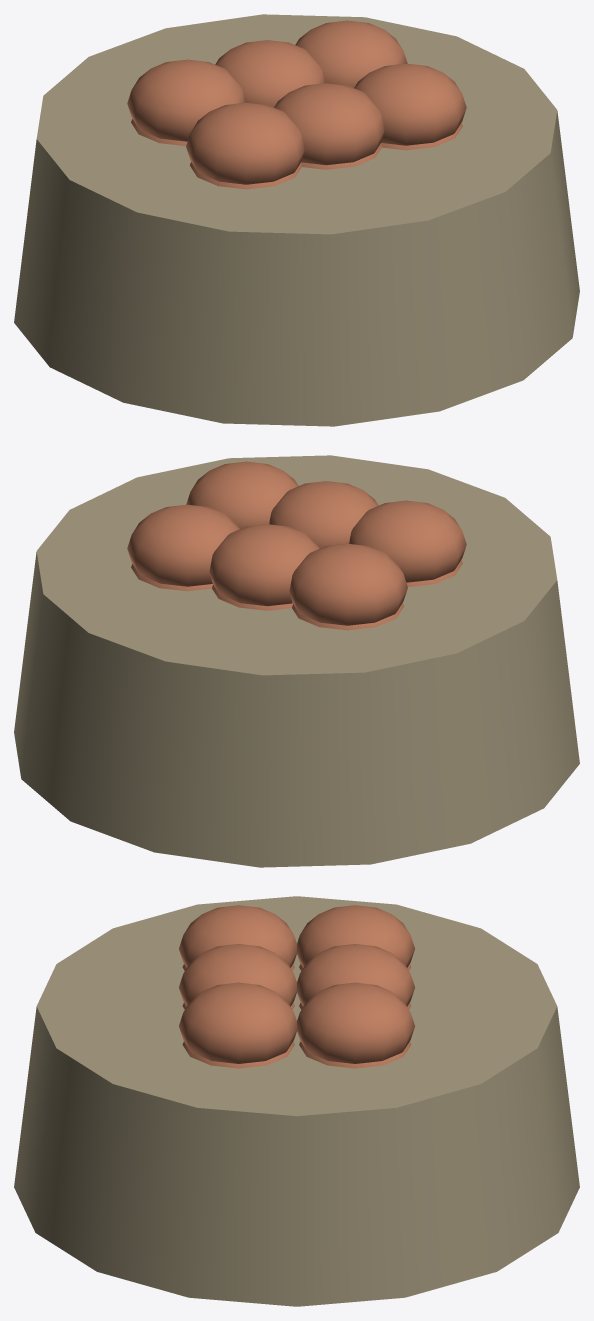
Rendered from fixture-lion-meat-v01.glb.
The picture shows the model from 3 angles, top to bottom: view 1: azimuth 30°, elevation 25°; view 2: azimuth 150°, elevation 25°; view 3: azimuth 270°, elevation 25°; orthographic projection.
Parts seen in each view (by area): view 1: post, portion-9, portion-11, portion-10, portion-6, portion-8, portion-7, portion-3; view 2: post, portion-6, portion-8, portion-7, portion-9, portion-11, portion-10, portion-0; view 3: post, portion-8, portion-11, portion-7, portion-10, portion-6, portion-9, portion-2, portion-5.
Boxes of the visible parts, left/top/right/bottom form: post: left=14, top=14, right=579, bottom=426; portion-9: left=186, top=102, right=304, bottom=184; portion-11: left=354, top=63, right=466, bottom=145; portion-10: left=274, top=83, right=384, bottom=165; portion-6: left=127, top=59, right=244, bottom=141; portion-8: left=295, top=20, right=407, bottom=87; portion-7: left=215, top=40, right=324, bottom=107; portion-3: left=190, top=162, right=301, bottom=189; post: left=14, top=455, right=579, bottom=867; portion-6: left=289, top=543, right=407, bottom=625; portion-8: left=127, top=504, right=239, bottom=586; portion-7: left=209, top=524, right=319, bottom=606; portion-9: left=349, top=500, right=466, bottom=582; portion-11: left=186, top=461, right=298, bottom=528; portion-10: left=269, top=481, right=378, bottom=548; portion-0: left=292, top=603, right=403, bottom=630; post: left=14, top=896, right=579, bottom=1306; portion-8: left=297, top=982, right=414, bottom=1063; portion-11: left=179, top=982, right=296, bottom=1063; portion-7: left=297, top=944, right=414, bottom=1006; portion-10: left=179, top=944, right=296, bottom=1006; portion-6: left=297, top=905, right=414, bottom=967; portion-9: left=179, top=905, right=296, bottom=967; portion-2: left=299, top=1041, right=411, bottom=1068; portion-5: left=182, top=1041, right=294, bottom=1068.
Bounding box in the file's own units: 0.34 × 0.1564 × 0.34.
